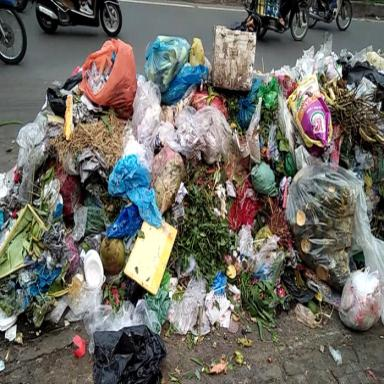plasticbag: (215, 34, 383, 368), (277, 153, 377, 312), (81, 34, 139, 122), (106, 155, 164, 242), (88, 324, 170, 383), (336, 249, 383, 340), (144, 35, 205, 101), (285, 74, 337, 148), (163, 264, 209, 336)
